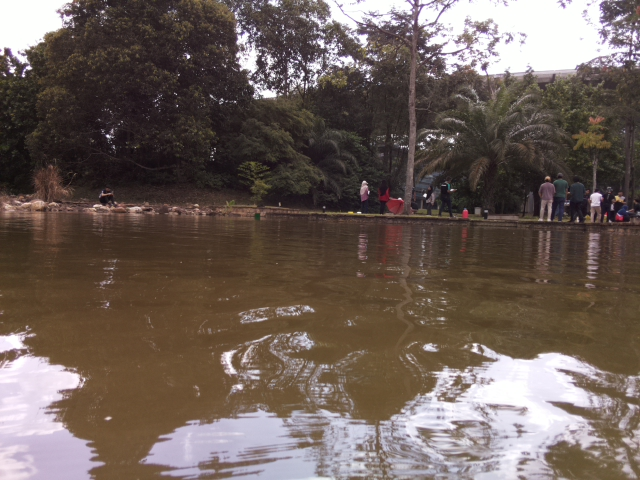obstacle: (254, 213, 260, 220)
